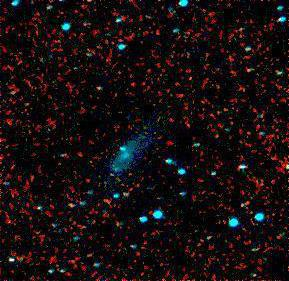star: (102, 158, 132, 188)
